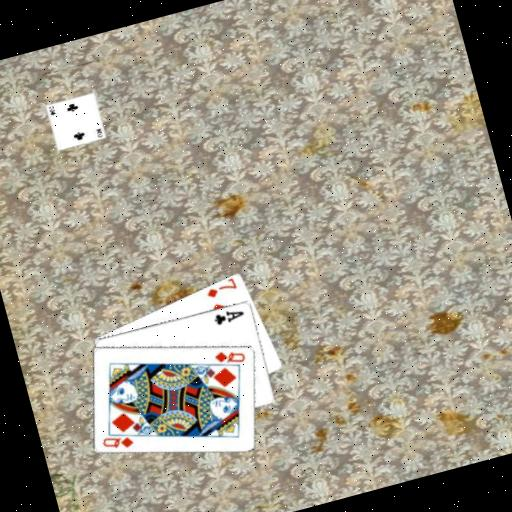7D: (201, 275, 239, 301)
AC: (210, 303, 247, 328)
QD: (210, 342, 248, 370), (97, 428, 136, 455)
